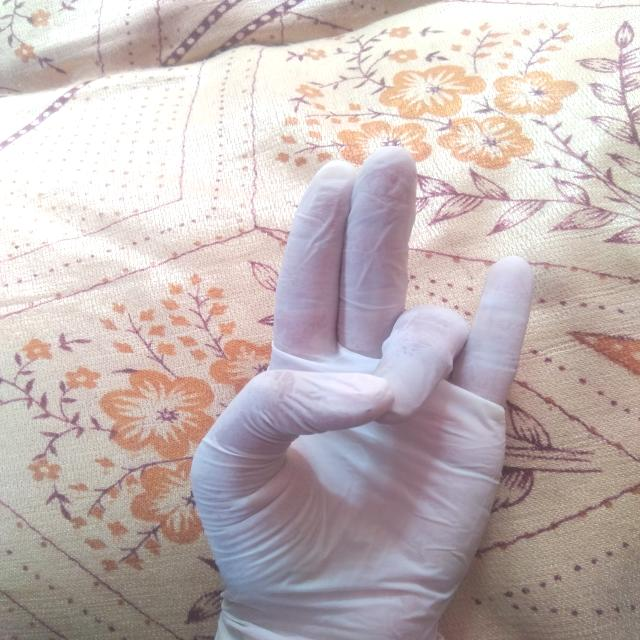glove: (189, 143, 540, 636)
